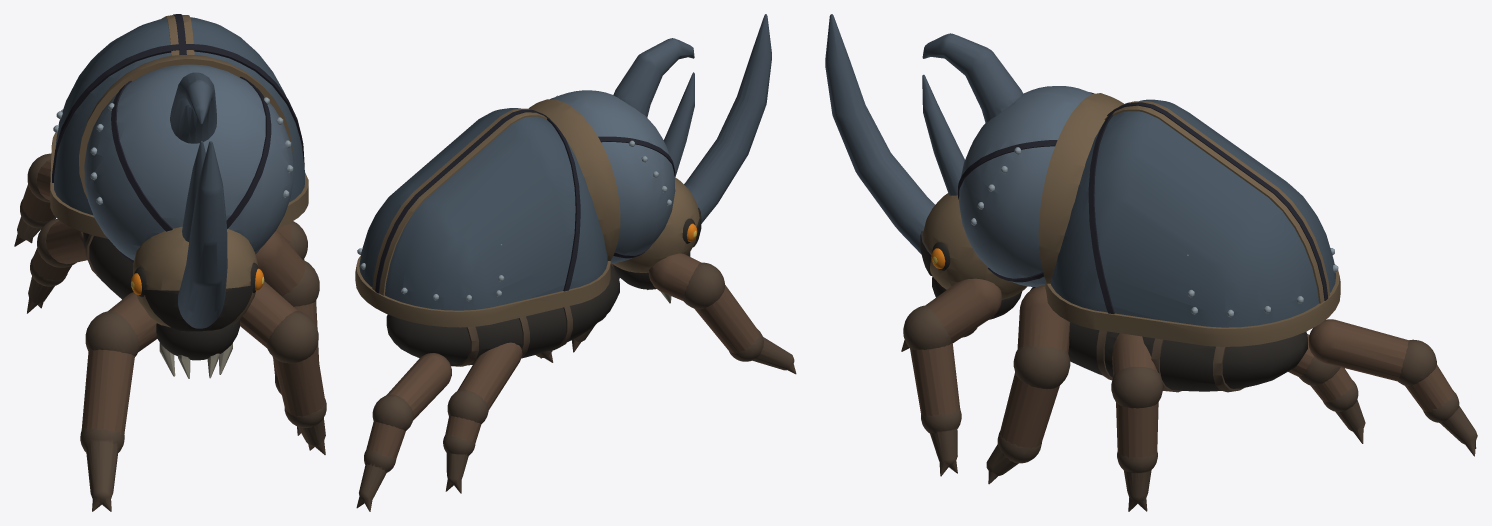
Rendered from ironcarab.glb.
3 renders of one model, left to right at view 1: azimuth 30°, elevation 25°; view 2: azimuth 150°, elevation 25°; view 3: azimuth 270°, elevation 25°, orthographic. The views are drawn at different scales.
Parts seen in each view (by area): view 1: creature; view 2: creature; view 3: creature.
Boxes of the visible parts, bbox=[...] form: creature: bbox=[14, 14, 326, 511]; creature: bbox=[355, 14, 796, 511]; creature: bbox=[825, 14, 1477, 511].
Size of the model in its own units: 0.907 by 1 by 1.53.
